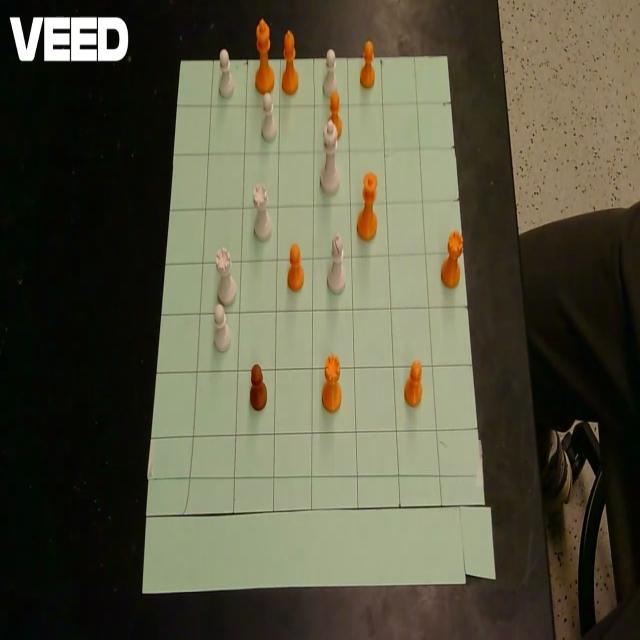orange_bishop: (282, 30, 298, 94)
orange_king: (255, 16, 274, 94)
orange_pawn: (403, 359, 422, 407), (250, 364, 267, 411), (288, 242, 304, 291), (360, 40, 374, 88), (329, 89, 342, 139)
orange_queen: (357, 171, 378, 240)
orange_rook: (441, 229, 463, 288), (322, 353, 342, 412)
white_bishop: (326, 232, 346, 294)
white_king: (320, 120, 341, 192)
white_pawn: (213, 303, 231, 352), (218, 46, 234, 98), (261, 90, 277, 141), (323, 48, 337, 98)
white_rook: (215, 245, 236, 307), (252, 182, 272, 240)
